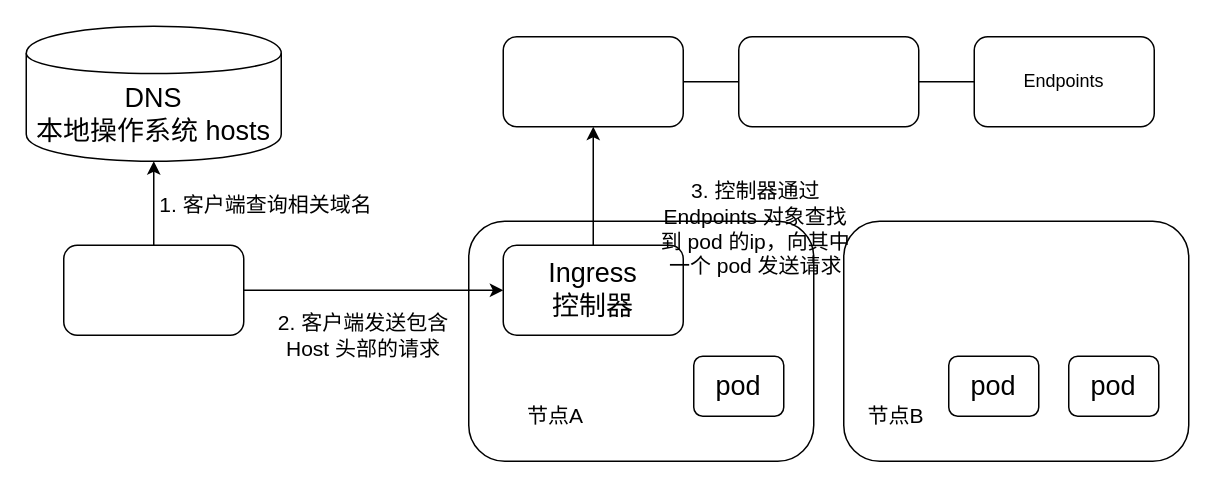
Some shapes in this 1215 by 488 pixel diagram are drawn without their labels. The centre of each missing label's shape, as x and y in pixels:
"Ingress" goes at (592,81).
"server" goes at (828,81).
"客户端" goes at (153,289).
